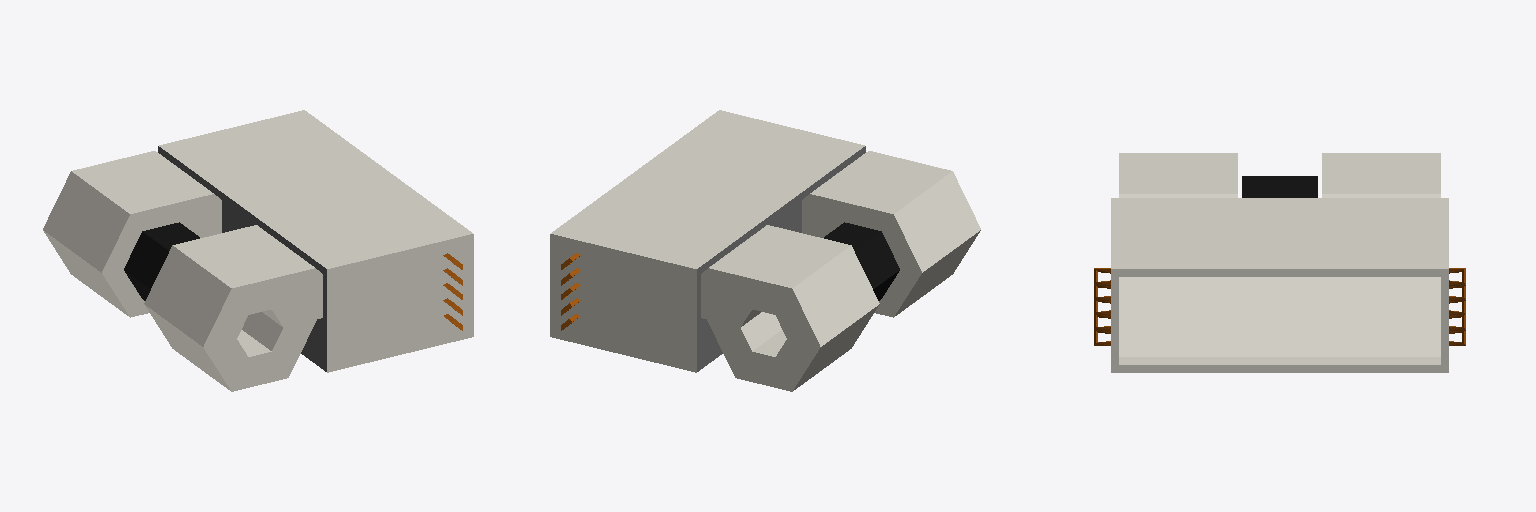
Rendered from FanCoils.obj.
3 views of the same model, side by side, from view 1: azimuth 30°, elevation 25°; view 2: azimuth 150°, elevation 25°; view 3: azimuth 270°, elevation 25° (orthographic).
Parts seen in each view (by area): view 1: object_11, object_24, object_23, object_22, object_25; view 2: object_11, object_23, object_24, object_22, object_25; view 3: object_11, object_23, object_24, object_1, object_2, object_4, object_6, object_7, object_8, object_10, object_3, object_5 (+3 smaller).
Boxes of the visible parts, box(x1,y1,x2,y2) form: object_11: box(159, 110, 473, 372); object_24: box(144, 225, 322, 391); object_23: box(43, 151, 221, 317); object_22: box(158, 146, 326, 371); object_25: box(124, 222, 199, 300); object_11: box(550, 110, 864, 372); object_23: box(701, 225, 879, 391); object_24: box(802, 151, 980, 317); object_22: box(697, 146, 865, 371); object_25: box(824, 222, 899, 300); object_11: box(1111, 198, 1448, 372); object_23: box(1322, 153, 1440, 197); object_24: box(1119, 153, 1237, 197); object_1: box(1119, 280, 1440, 287); object_2: box(1119, 288, 1440, 295); object_4: box(1119, 326, 1440, 333); object_6: box(1119, 311, 1440, 318); object_7: box(1119, 303, 1440, 310); object_8: box(1119, 334, 1440, 341); object_10: box(1119, 349, 1440, 356); object_3: box(1119, 296, 1440, 302); object_5: box(1119, 319, 1440, 325).
Bounding box in the file's own units: 72.76 × 27 × 88.